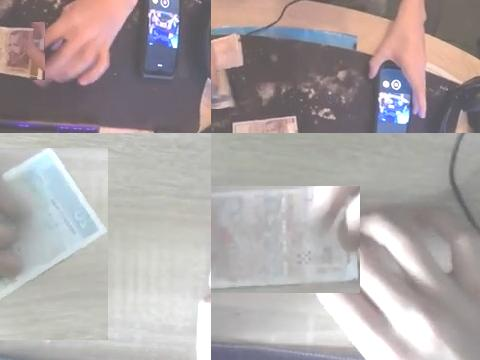20leva: (0, 148, 108, 303)
50leva: (0, 26, 45, 80), (232, 115, 300, 133)
5leva: (211, 186, 360, 292)
